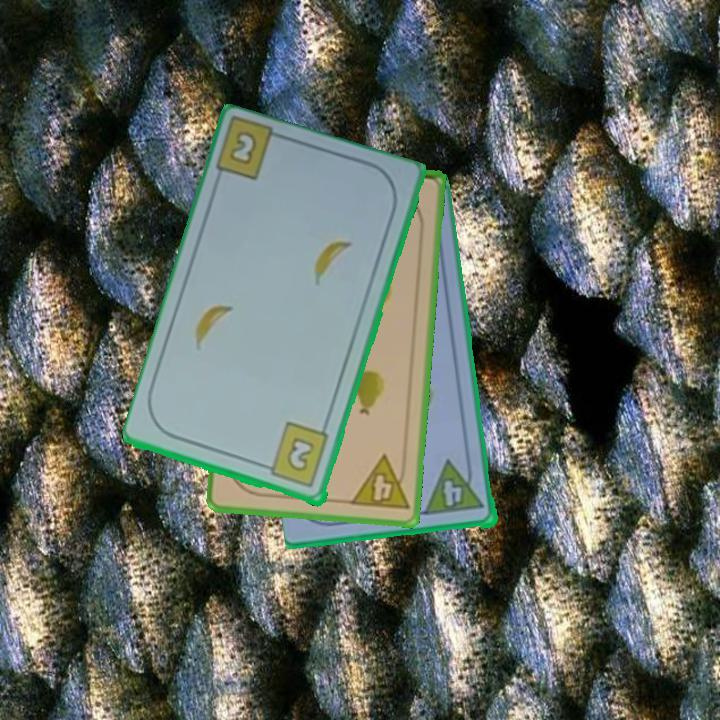2b: (259, 419, 332, 491), (226, 127, 260, 169)
4p: (422, 456, 487, 519), (346, 452, 412, 514)
